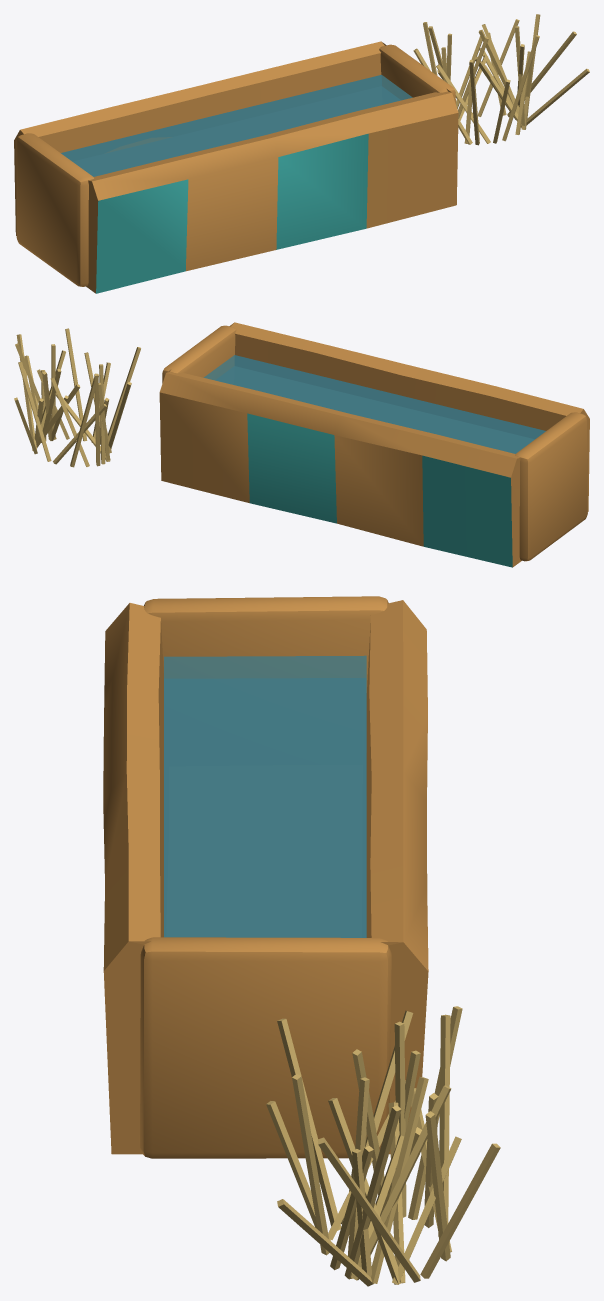
The model's file is deco_feeding_trough_clay.fbx.
3 views of the same model, one above another, from view 1: azimuth 30°, elevation 25°; view 2: azimuth 150°, elevation 25°; view 3: azimuth 270°, elevation 25° (orthographic). The views are drawn at different scales.
Visible parts, largest first — view 1: FeedingTrough_Clay_Trough, FeedingTrough_Clay_Water, FeedingTrough_Clay_Hay; view 2: FeedingTrough_Clay_Trough, FeedingTrough_Clay_Water, FeedingTrough_Clay_Hay; view 3: FeedingTrough_Clay_Trough, FeedingTrough_Clay_Water, FeedingTrough_Clay_Hay.
Part boxes in pixels (left/top/right/bottom): FeedingTrough_Clay_Trough: left=14, top=41, right=458, bottom=293; FeedingTrough_Clay_Water: left=61, top=75, right=412, bottom=176; FeedingTrough_Clay_Hay: left=413, top=14, right=589, bottom=145; FeedingTrough_Clay_Trough: left=159, top=322, right=589, bottom=567; FeedingTrough_Clay_Water: left=203, top=355, right=545, bottom=453; FeedingTrough_Clay_Hay: left=14, top=328, right=140, bottom=467; FeedingTrough_Clay_Trough: left=103, top=596, right=428, bottom=1158; FeedingTrough_Clay_Water: left=164, top=655, right=366, bottom=937; FeedingTrough_Clay_Hay: left=266, top=1006, right=500, bottom=1286.
Bounding box in the file's own units: 303 × 59.05 × 98.07.
